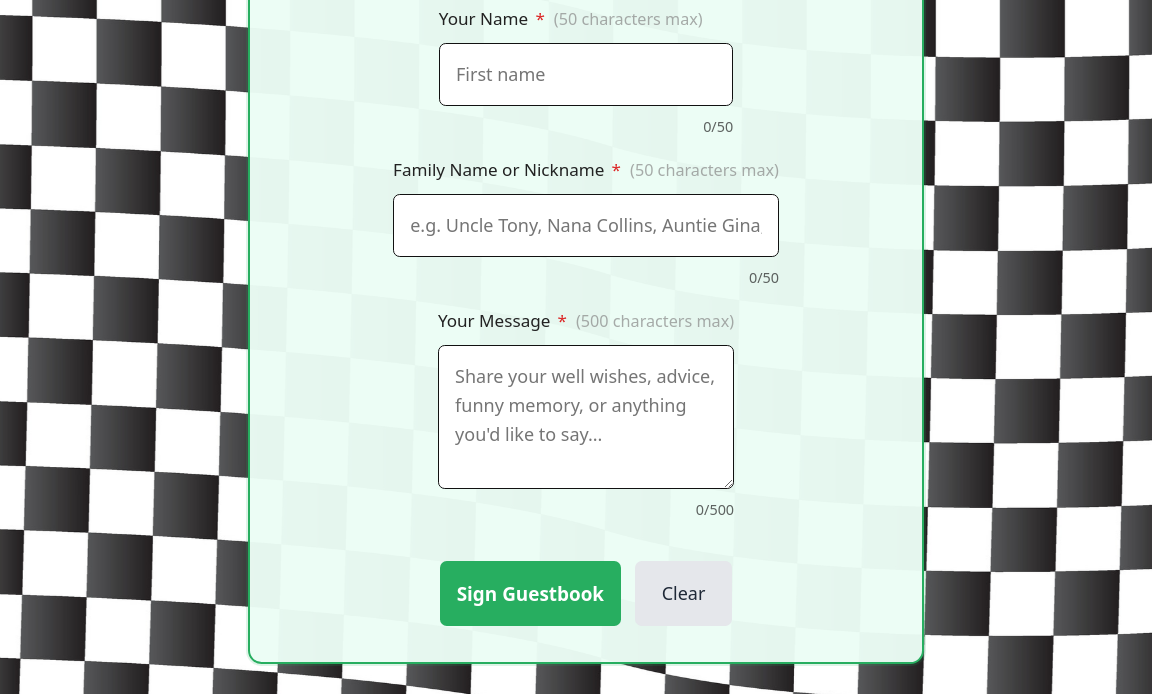
Guestbook form validation › shows error when submitted with no name
(page scrolled)
Click the button "Sign Guestbook": (530, 594) [440,562,621,626]
(page scrolled)
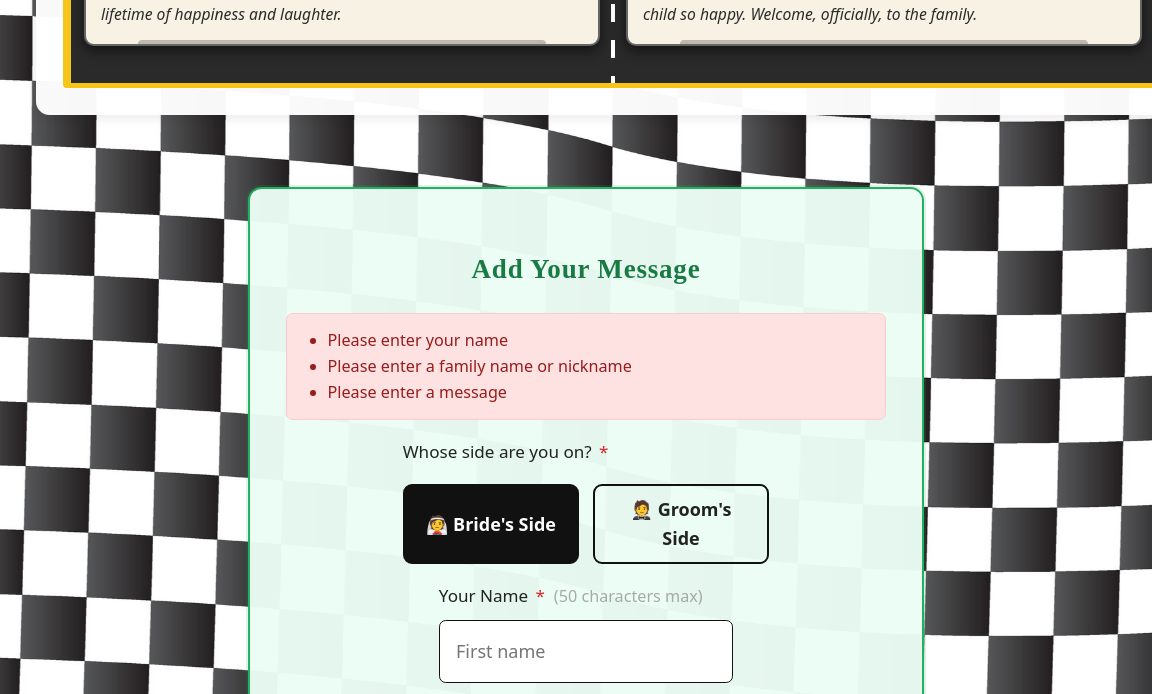
Expected: the list item "Please enter your name" is shown, [328,329,508,351]
